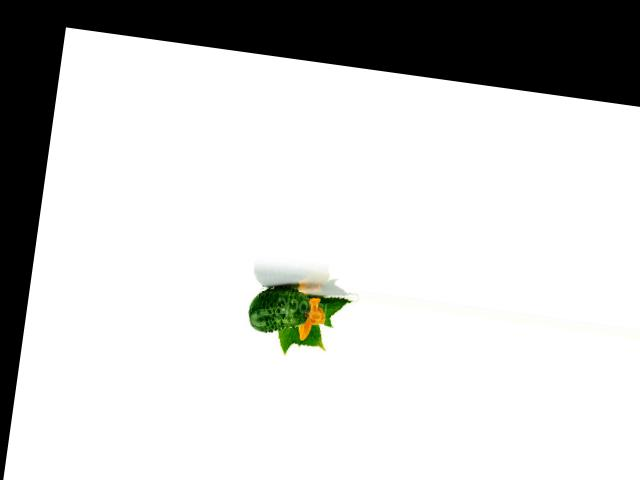cucumber: (245, 282, 311, 337)
